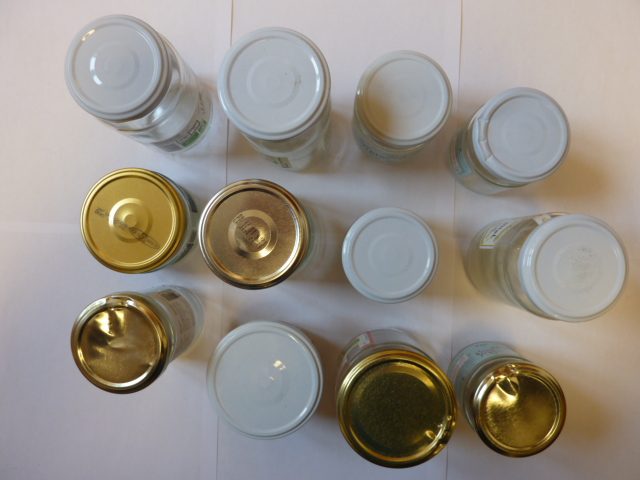damaged: (69, 295, 171, 393), (473, 85, 571, 184), (471, 362, 567, 458)
intact: (204, 321, 324, 439), (218, 25, 331, 142), (196, 178, 310, 290), (519, 213, 629, 323), (80, 168, 185, 274), (356, 48, 453, 147)
